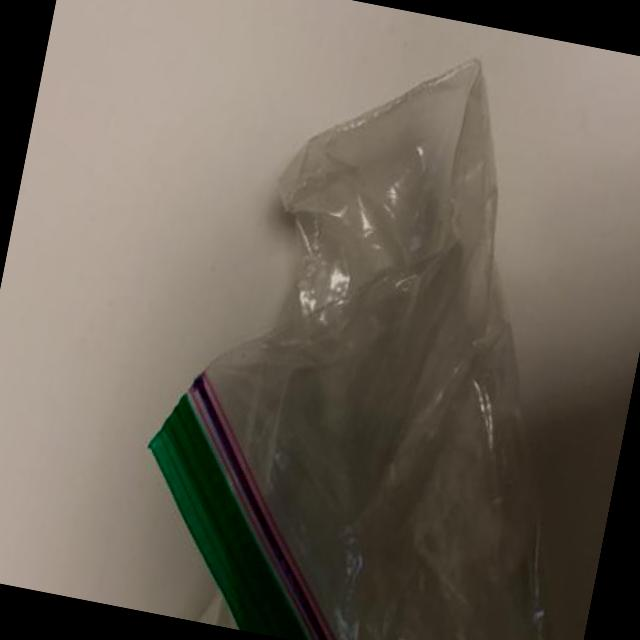Recycle: (116, 8, 640, 640)
